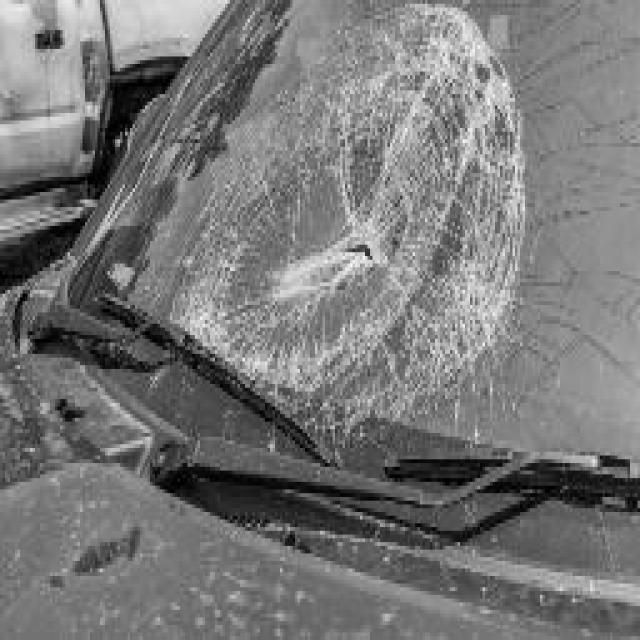Windshield: (67, 0, 640, 571)
